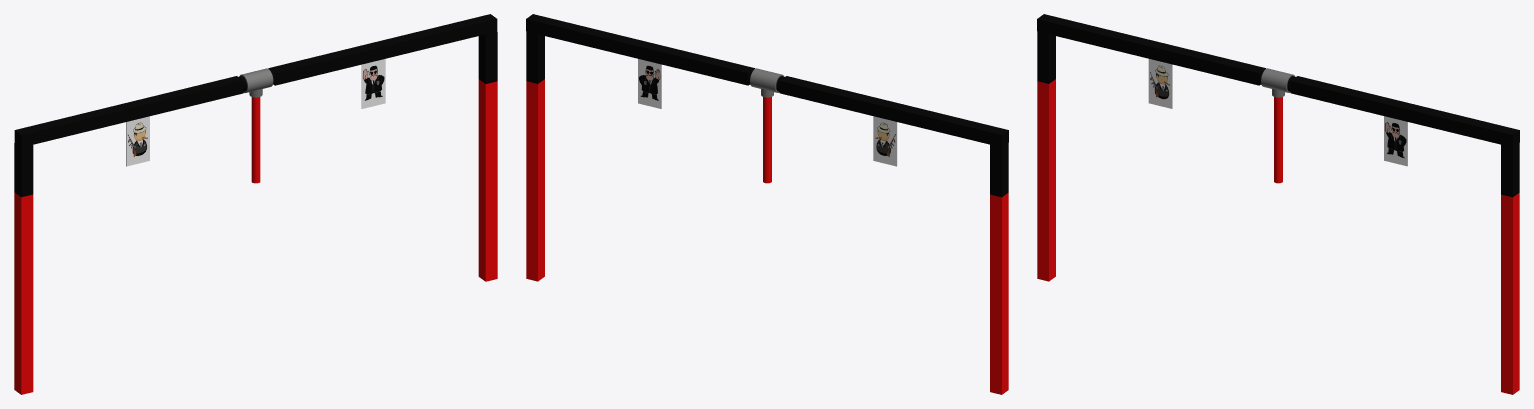
The model's file is qual_gate_with_images.dae.
The picture shows the model from 3 angles, left to right: view 1: azimuth 30°, elevation 25°; view 2: azimuth 150°, elevation 25°; view 3: azimuth 330°, elevation 25°; orthographic projection.
Visible parts, largest first — view 1: qual_gate, gman_image, image_bootlegger; view 2: qual_gate, image_bootlegger, gman_image; view 3: qual_gate, image_bootlegger, gman_image.
Part boxes in pixels (x1=…): qual_gate: x1=14, y1=14, x2=497, y2=394; gman_image: x1=361, y1=59, x2=385, y2=108; image_bootlegger: x1=126, y1=116, x2=149, y2=166; qual_gate: x1=526, y1=14, x2=1008, y2=394; image_bootlegger: x1=873, y1=116, x2=897, y2=166; gman_image: x1=638, y1=59, x2=661, y2=108; qual_gate: x1=1037, y1=14, x2=1519, y2=394; image_bootlegger: x1=1148, y1=59, x2=1172, y2=108; gman_image: x1=1384, y1=116, x2=1407, y2=166.
Bounding box in the file's own units: 3.07 × 0.1062 × 1.62.
